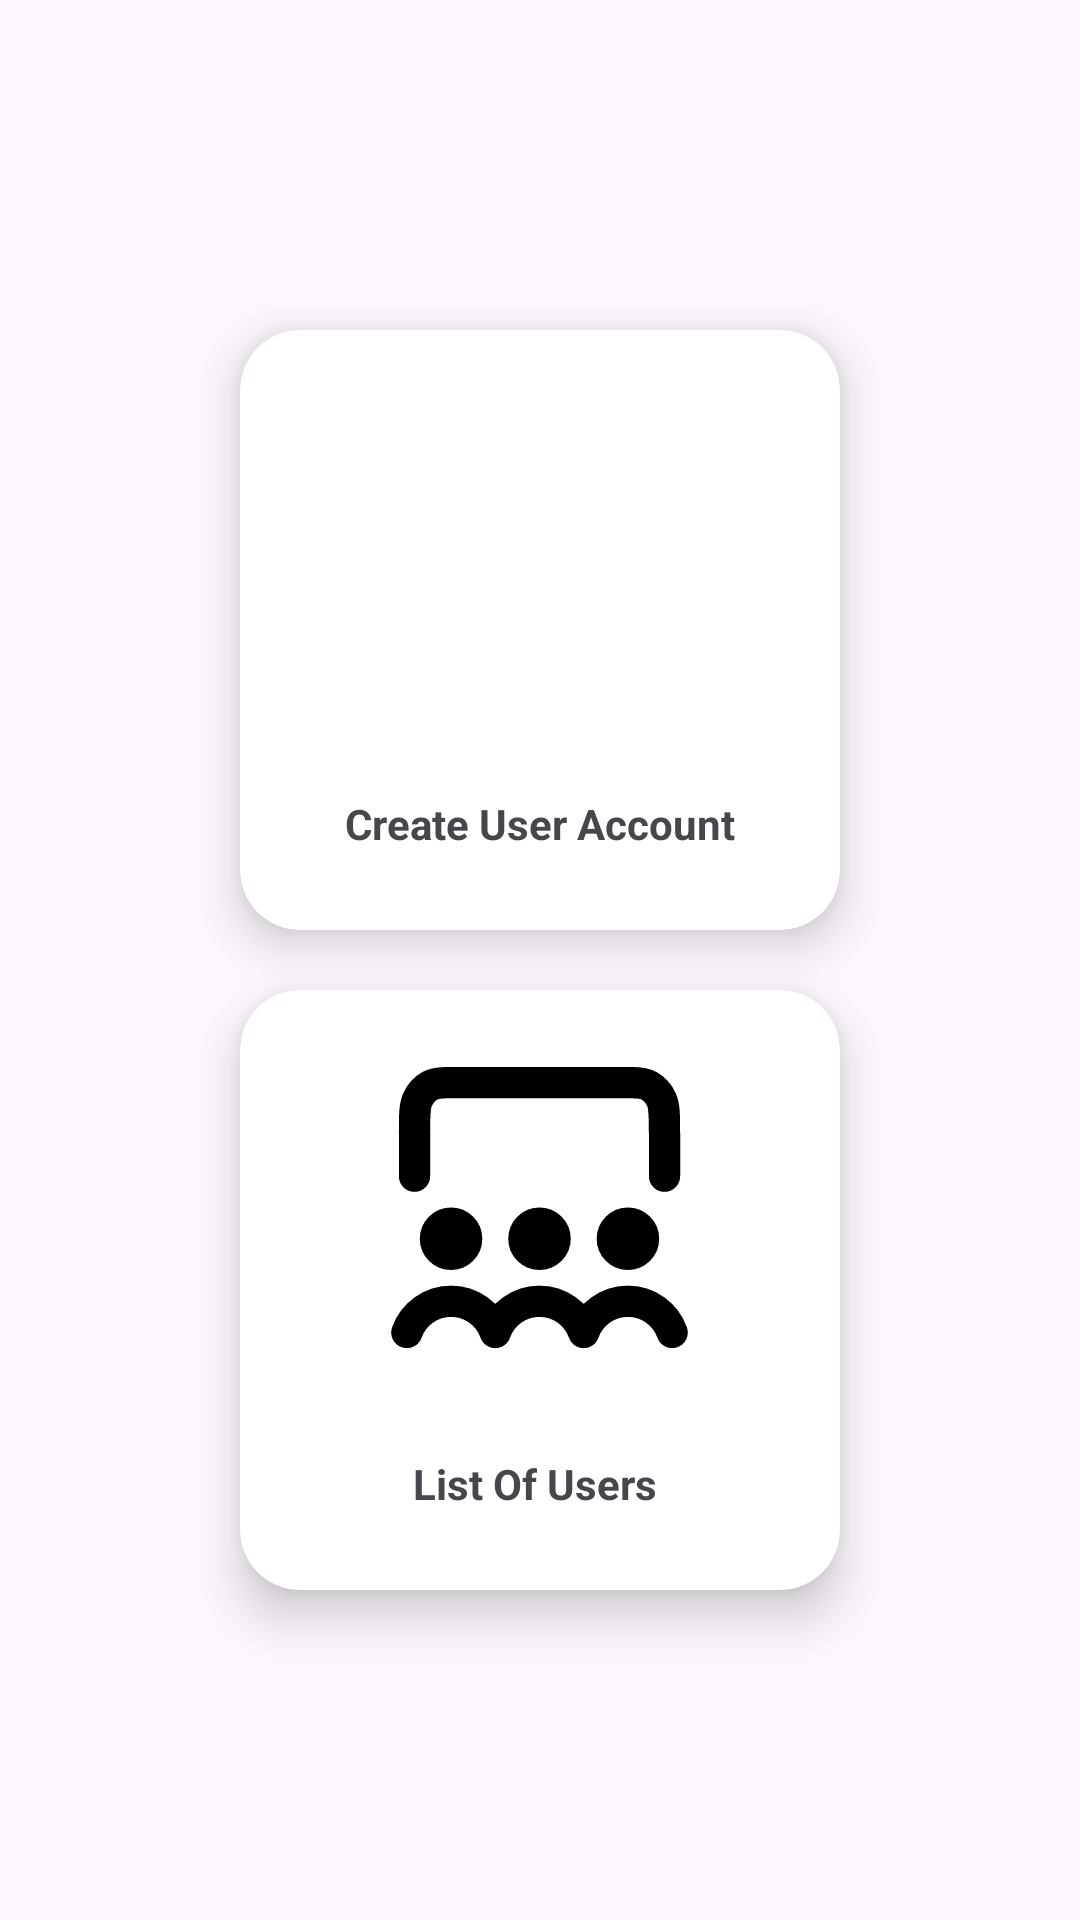

Icon bounding boxes for this 1080 x 1920 phone screenshot, format (x1, y1, x2, y2):
multiple user: (391, 1067, 688, 1349)
